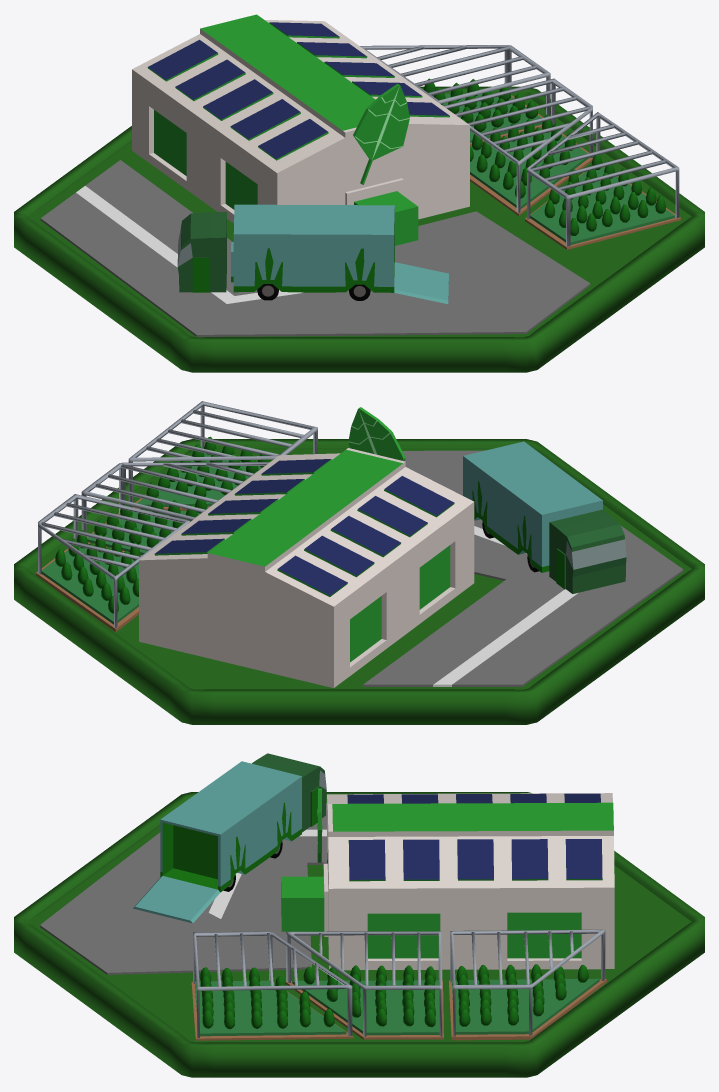
Rendered from Plant_Processor_Tile.fbx.
The picture shows the model from 3 angles, top to bottom: view 1: azimuth 30°, elevation 25°; view 2: azimuth 150°, elevation 25°; view 3: azimuth 270°, elevation 25°; orthographic projection.
Visible parts, largest first — view 1: Cube.003, Cylinder.003; view 2: Cube.003, Cylinder.003; view 3: Cube.003, Cylinder.003.
Part boxes in pixels (box(x1,y1,x2,y2)): Cube.003: box(27, 14, 691, 337); Cylinder.003: box(14, 86, 704, 372); Cube.003: box(27, 401, 691, 689); Cylinder.003: box(14, 439, 704, 724); Cube.003: box(27, 753, 691, 1042); Cylinder.003: box(14, 792, 704, 1077).
Bounding box in the file's own units: 114 × 31.13 × 100.
